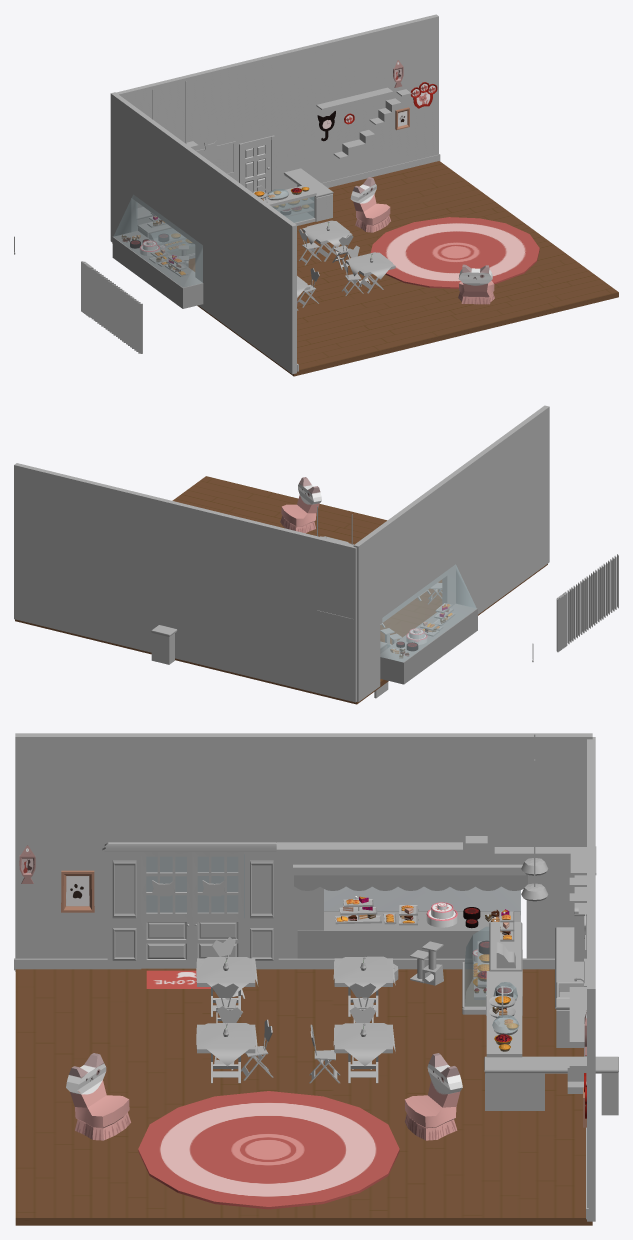
File: Cafe2.fbx
3 views of the same model, one above another, from view 1: azimuth 30°, elevation 25°; view 2: azimuth 150°, elevation 25°; view 3: azimuth 270°, elevation 25° (orthographic). The views are drawn at different scales.
Parts seen in each view (by area): view 1: pCube3, pCube1, pCube2, pCube191, pPlane4, pCube197, pCube240, pCube54, pCube192, pCube194, pCube94, pPlane5 (+6 smaller); view 2: pCube3, pCube2, pCube1, pPlane4, pCube197, pCube192, pCube194; view 3: pCube1, pCube2, pCube191, pCube197, pCube194, pCube84, pCube3, pCube85, pCube86, pPlane4, pCube143, pCube192 (+20 smaller).
Boxes of the visible parts, x1,y1,x2,y2 form: pCube3: [116, 14, 438, 207]; pCube1: [112, 161, 618, 376]; pCube2: [110, 92, 296, 374]; pCube191: [370, 217, 539, 288]; pPlane4: [113, 194, 202, 287]; pCube197: [112, 231, 203, 308]; pCube240: [350, 177, 390, 232]; pCube54: [243, 140, 270, 193]; pCube192: [458, 264, 494, 304]; pCube194: [284, 168, 333, 221]; pCube94: [321, 154, 440, 187]; pPlane5: [348, 252, 392, 279]; pCube3: [14, 463, 356, 702]; pCube2: [353, 405, 549, 701]; pCube1: [15, 476, 547, 704]; pPlane4: [380, 564, 476, 662]; pCube197: [380, 603, 477, 684]; pCube192: [280, 477, 321, 533]; pCube194: [151, 625, 177, 664]; pCube1: [15, 968, 592, 1225]; pCube2: [15, 733, 592, 971]; pCube191: [138, 1091, 399, 1209]; pCube197: [297, 911, 520, 958]; pCube194: [484, 1056, 618, 1115]; pCube84: [141, 852, 192, 968]; pCube3: [587, 737, 595, 1221]; pCube85: [107, 852, 140, 969]; pCube86: [245, 852, 278, 969]; pPlane4: [324, 886, 520, 921]; pCube143: [192, 852, 243, 968]; pCube192: [66, 1053, 130, 1140].
Bounding box in the file's own units: 23.4 × 8.42 × 16.81.
